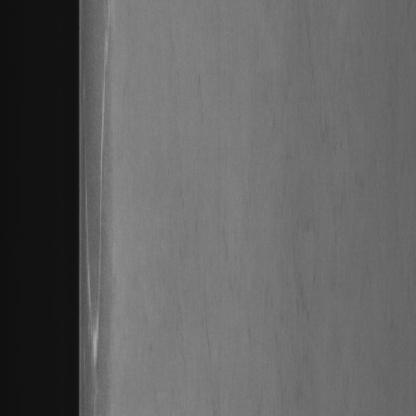silk_spot: (82, 1, 137, 374)
